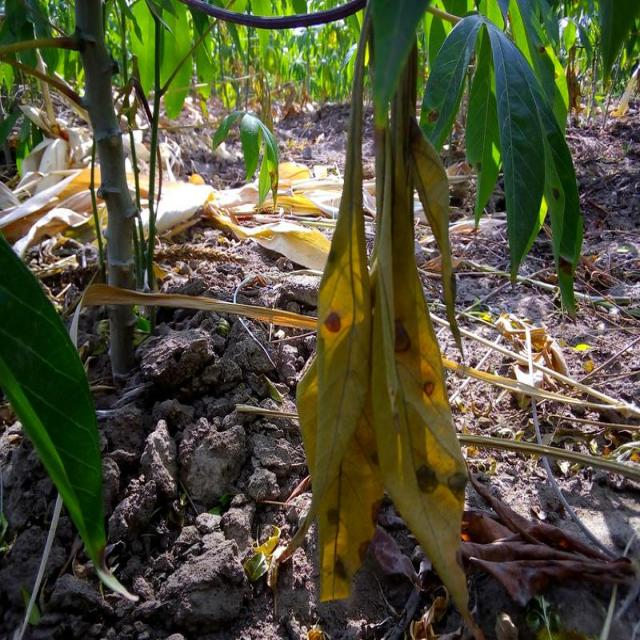cassava leaf: (0, 228, 138, 602), (418, 11, 582, 318)
